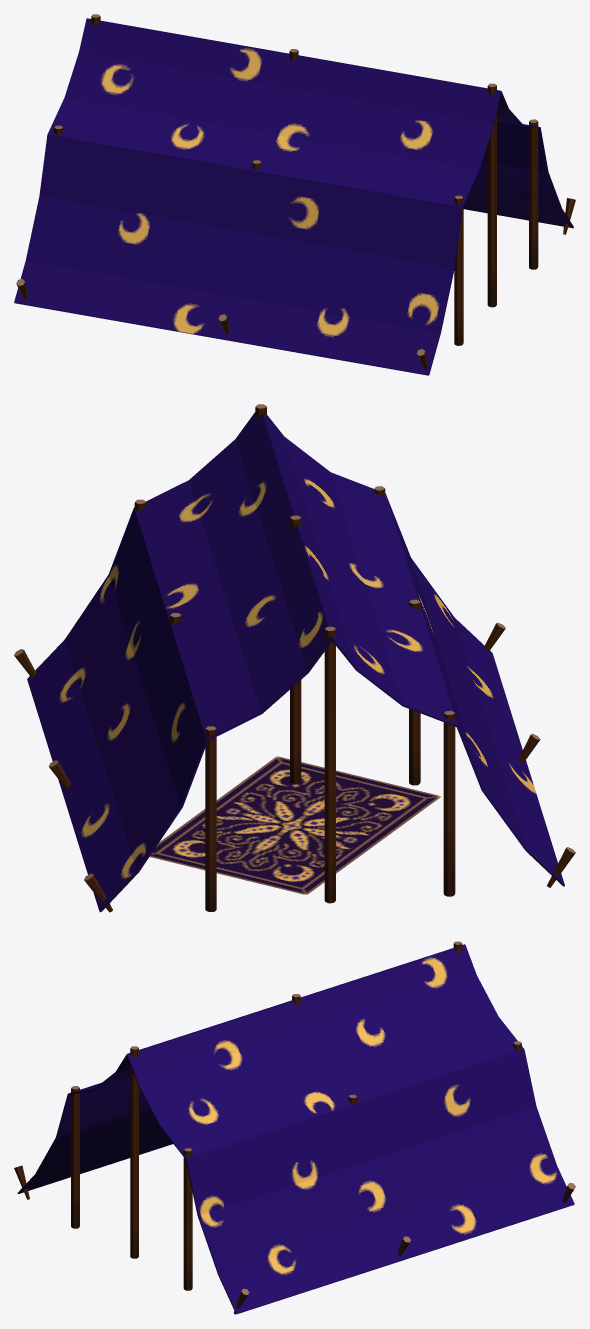
File: mountainCampmerged.fbx
3 views of the same model, one above another, from view 1: azimuth 30°, elevation 25°; view 2: azimuth 150°, elevation 25°; view 3: azimuth 270°, elevation 25° (orthographic). The views are drawn at different scales.
Visible parts, largest first — view 1: plane; view 2: plane; view 3: plane.
Boxes of the visible parts, box(x1,y1,x2,y2) form: plane: box(14, 14, 575, 375); plane: box(14, 404, 575, 912); plane: box(14, 941, 575, 1314).
Bounding box in the file's own units: 901 × 375 × 914.
1 material, 1 textured.
